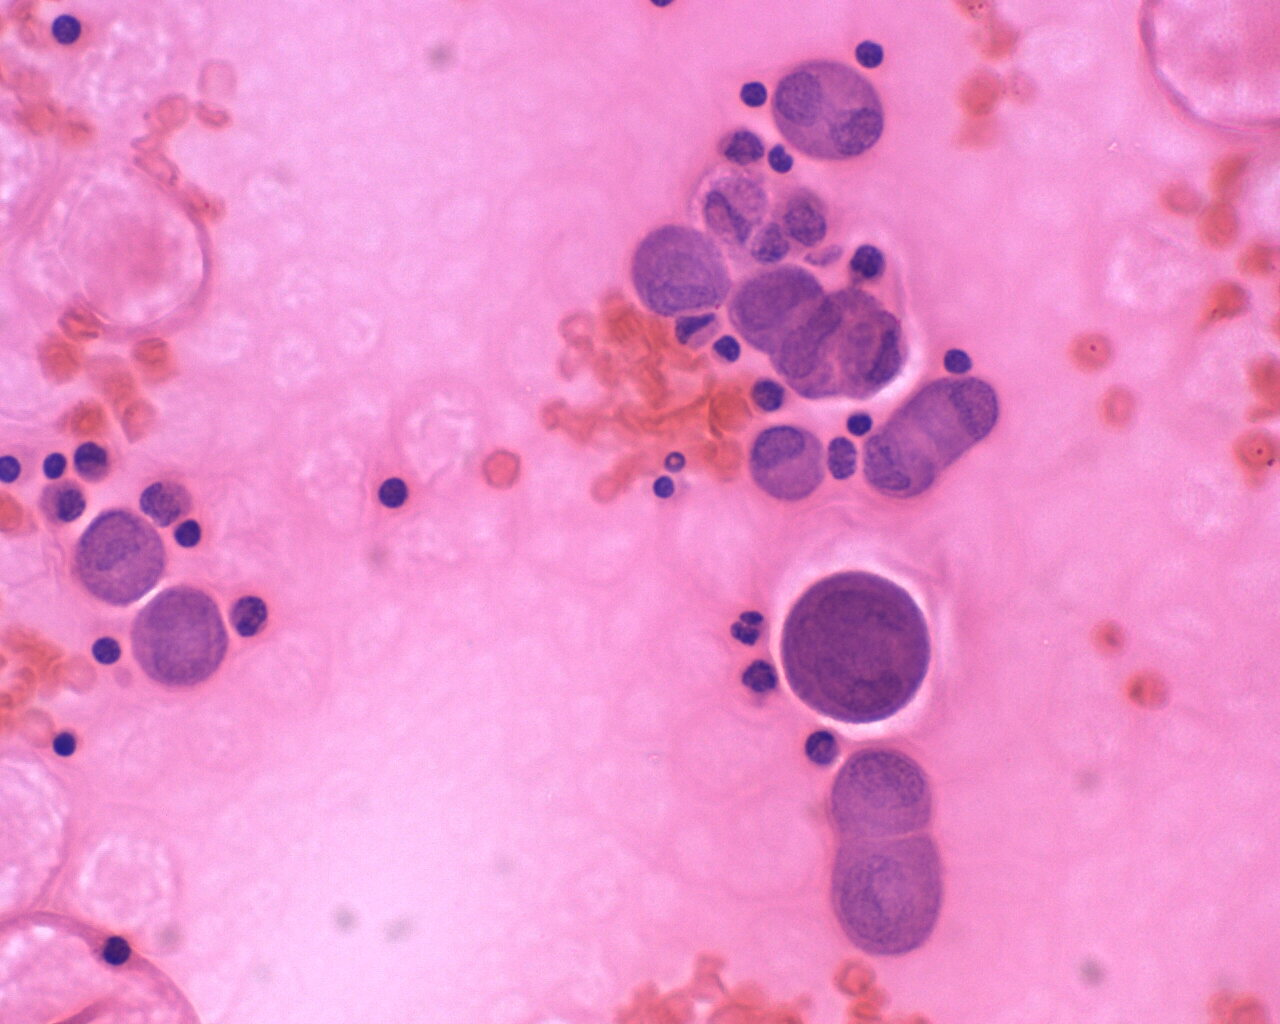ab: (776, 559, 942, 726), (835, 827, 945, 961), (777, 52, 885, 166), (134, 580, 230, 689), (828, 747, 941, 837), (627, 220, 730, 319), (862, 421, 942, 507)
lymph: (89, 629, 127, 672), (49, 7, 88, 49), (373, 474, 413, 512), (941, 339, 979, 378), (39, 728, 80, 759), (170, 516, 205, 549)
neutro: (727, 597, 768, 651)
